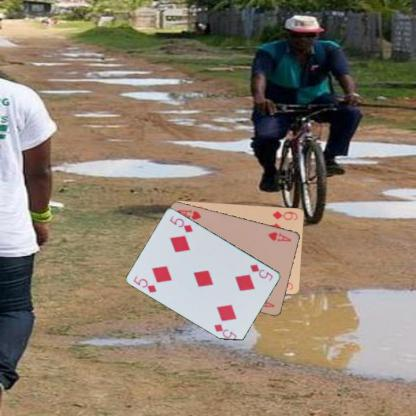5d: (131, 273, 158, 294), (248, 262, 274, 282)
6d: (270, 209, 299, 221)
Ah: (266, 229, 292, 243)
